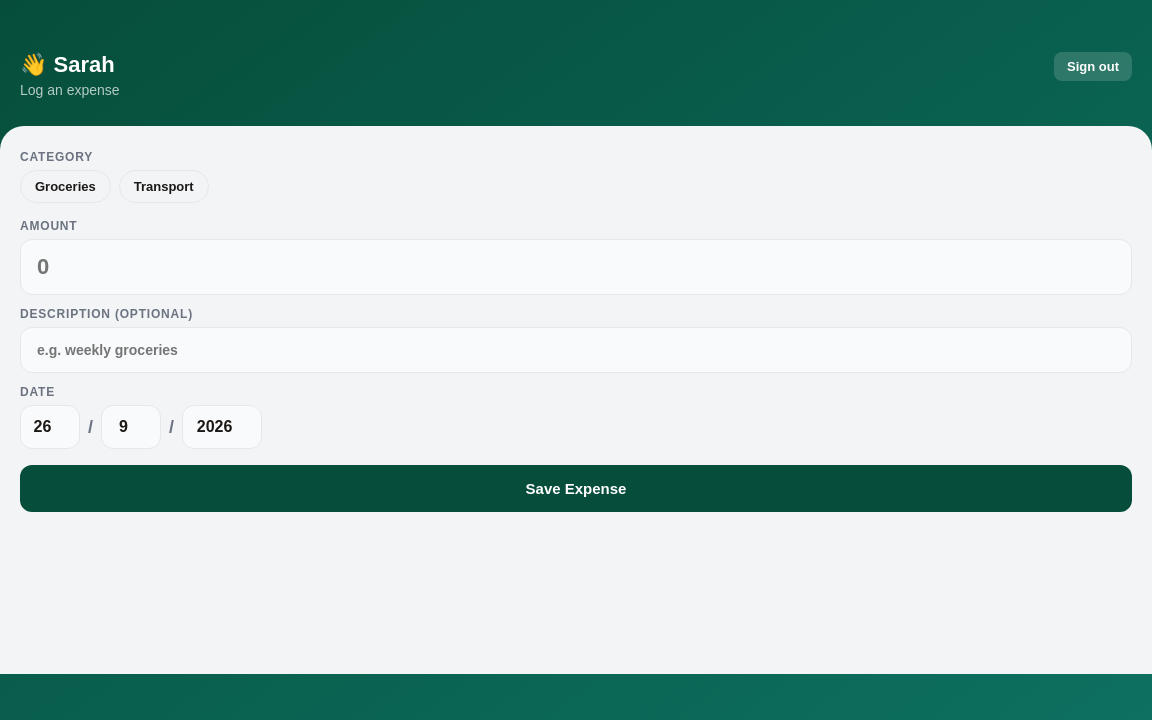
Test: GuestTransactionForm › still shows the generic error for a non-session failure
Step 1. Type "150" into the number field with test id "guest-amount-input" → (576, 267), box x1=20 y1=239 x2=1132 y2=295
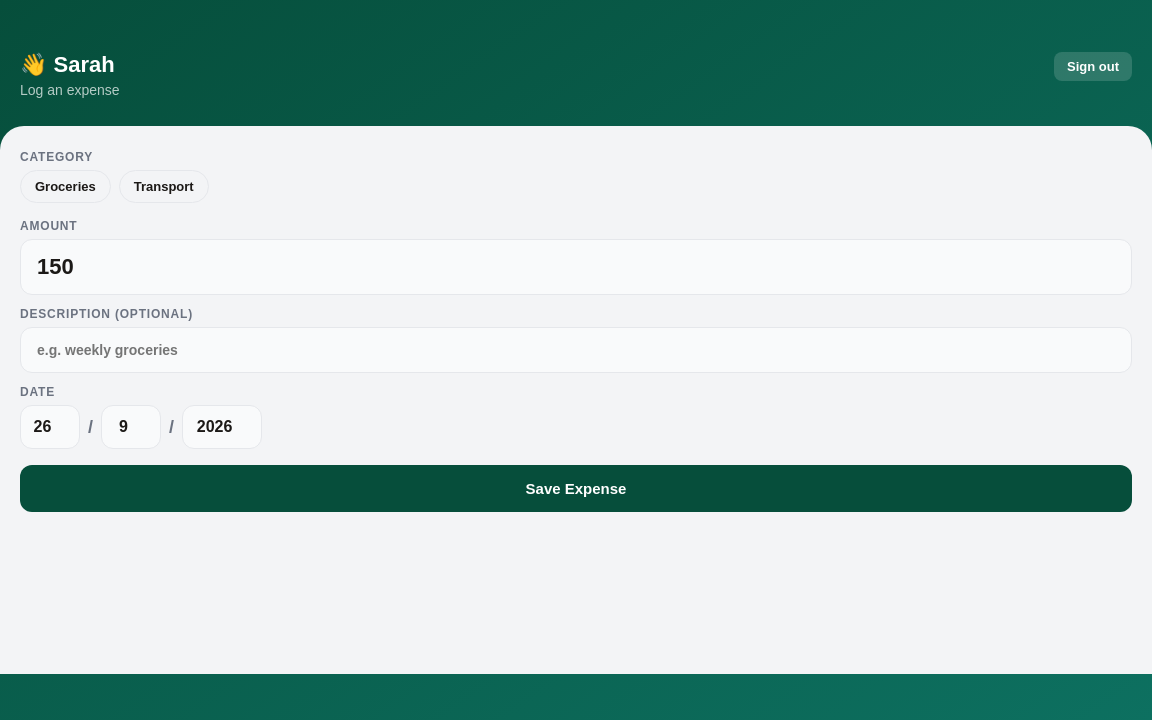
Step 2. Click the button with test id "guest-save-btn" → (576, 488), box x1=20 y1=465 x2=1132 y2=512
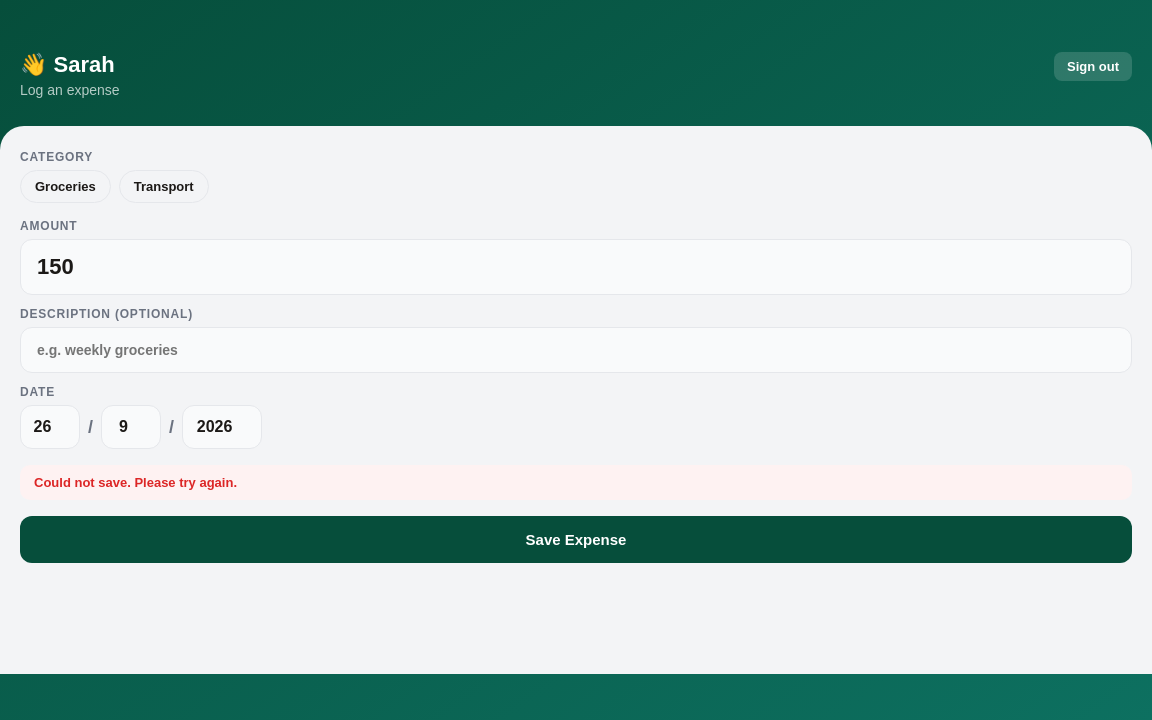
Result: the text with test id "guest-form-error" shows "Could not save" at x1=34 y1=475 x2=237 y2=490
